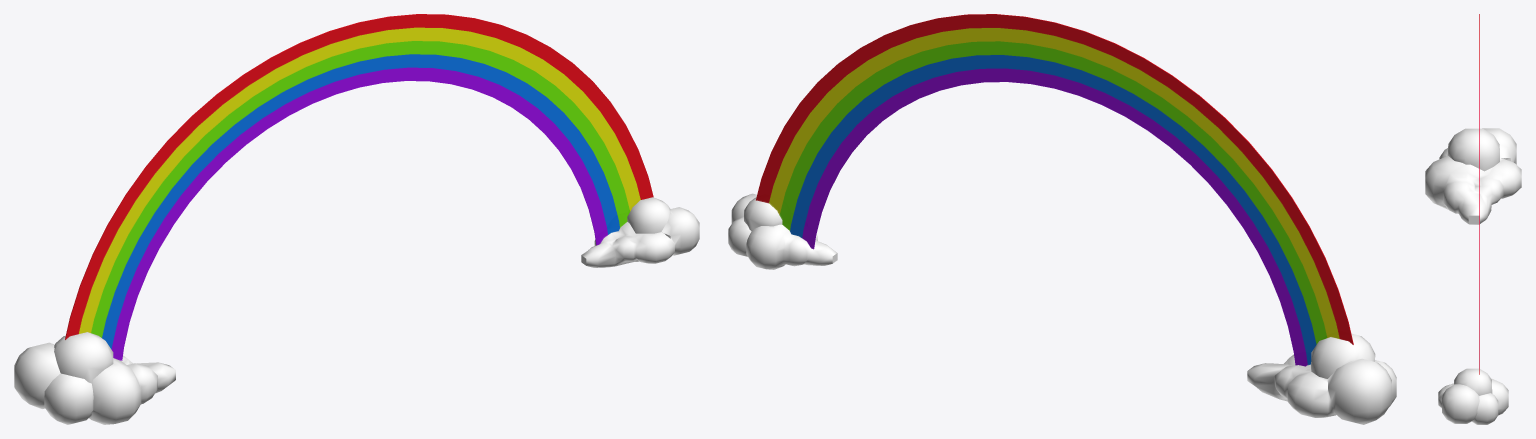
File: Rainbow.fbx
3 renders of one model, left to right at view 1: azimuth 30°, elevation 25°; view 2: azimuth 150°, elevation 25°; view 3: azimuth 270°, elevation 25°, orthographic. The views are drawn at different scales.
Visible parts, largest first — view 1: Rainbow; view 2: Rainbow; view 3: Rainbow.
Part boxes in pixels (<box>): Rainbow: <box>14,14,699,424</box>; Rainbow: <box>728,14,1396,424</box>; Rainbow: <box>1425,14,1521,424</box>.
Bounding box in the file's own units: 2659 × 395 × 1242.
Materials: 2 (2 with a texture image).
